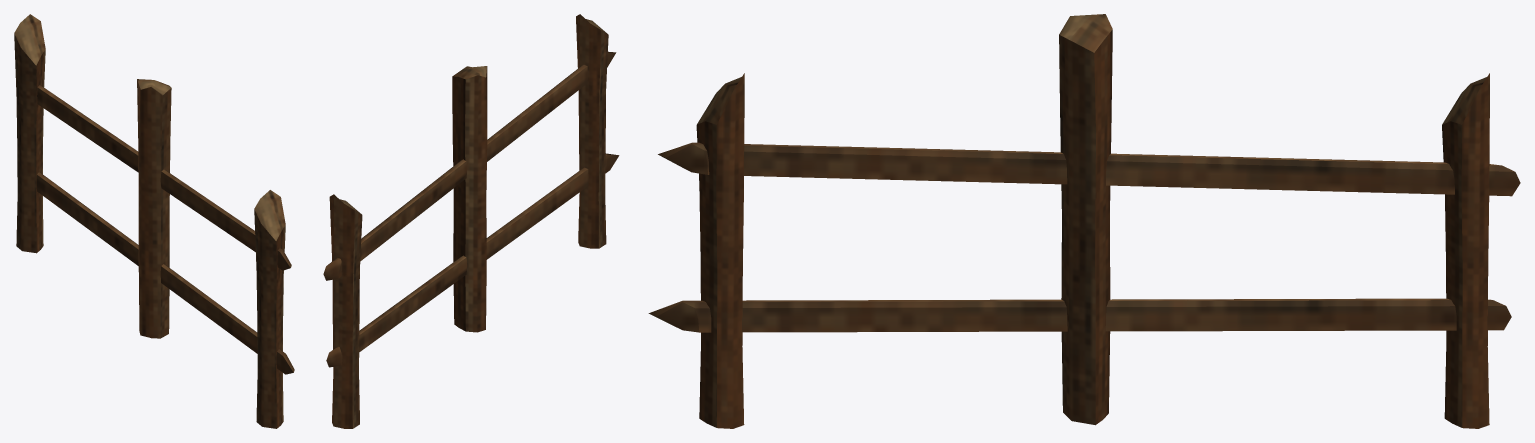
File: Cerca3.fbx
3 views of the same model, side by side, from view 1: azimuth 30°, elevation 25°; view 2: azimuth 150°, elevation 25°; view 3: azimuth 270°, elevation 25° (orthographic). The views are drawn at different scales.
Parts seen in each view (by area): view 1: polySurface94; view 2: polySurface94; view 3: polySurface94.
Boxes of the visible parts, x1,y1,x2,y2 form: polySurface94: (14, 14, 294, 428); polySurface94: (323, 14, 619, 428); polySurface94: (648, 14, 1520, 428).
Bounding box in the file's own units: 0.1977 × 1.5 × 2.98.
1 material, 1 textured.
